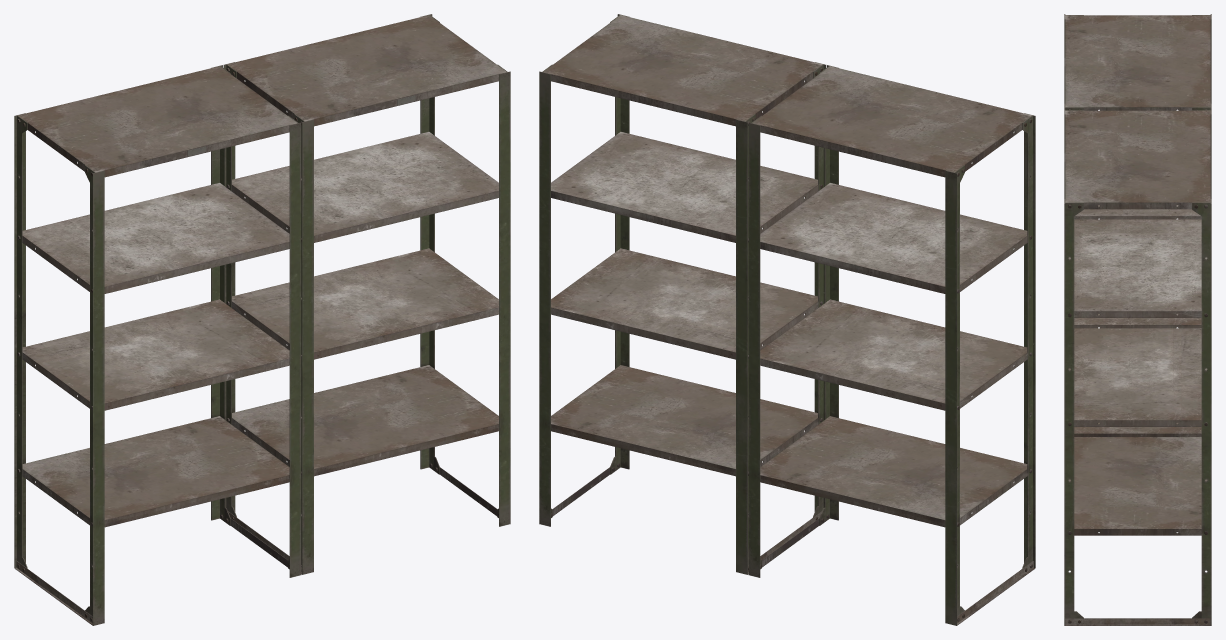
The model's file is rack.glb.
The picture shows the model from 3 angles, left to right: view 1: azimuth 30°, elevation 25°; view 2: azimuth 150°, elevation 25°; view 3: azimuth 270°, elevation 25°; orthographic projection. The views are drawn at different scales.
Visible parts, largest first — view 1: rack_left, rack_right; view 2: rack_left, rack_right; view 3: rack_right, rack_left.
Boxes of the visible parts, x1=… form: rack_left: x1=14, y1=65, x2=301, y2=625; rack_right: x1=223, y1=14, x2=510, y2=574; rack_left: x1=748, y1=65, x2=1035, y2=625; rack_right: x1=539, y1=14, x2=826, y2=574; rack_right: x1=1064, y1=109, x2=1211, y2=625; rack_left: x1=1064, y1=14, x2=1211, y2=436.
Size of the model in its own units: 1.84 by 1.9 by 0.6.
1 material, 1 textured.
